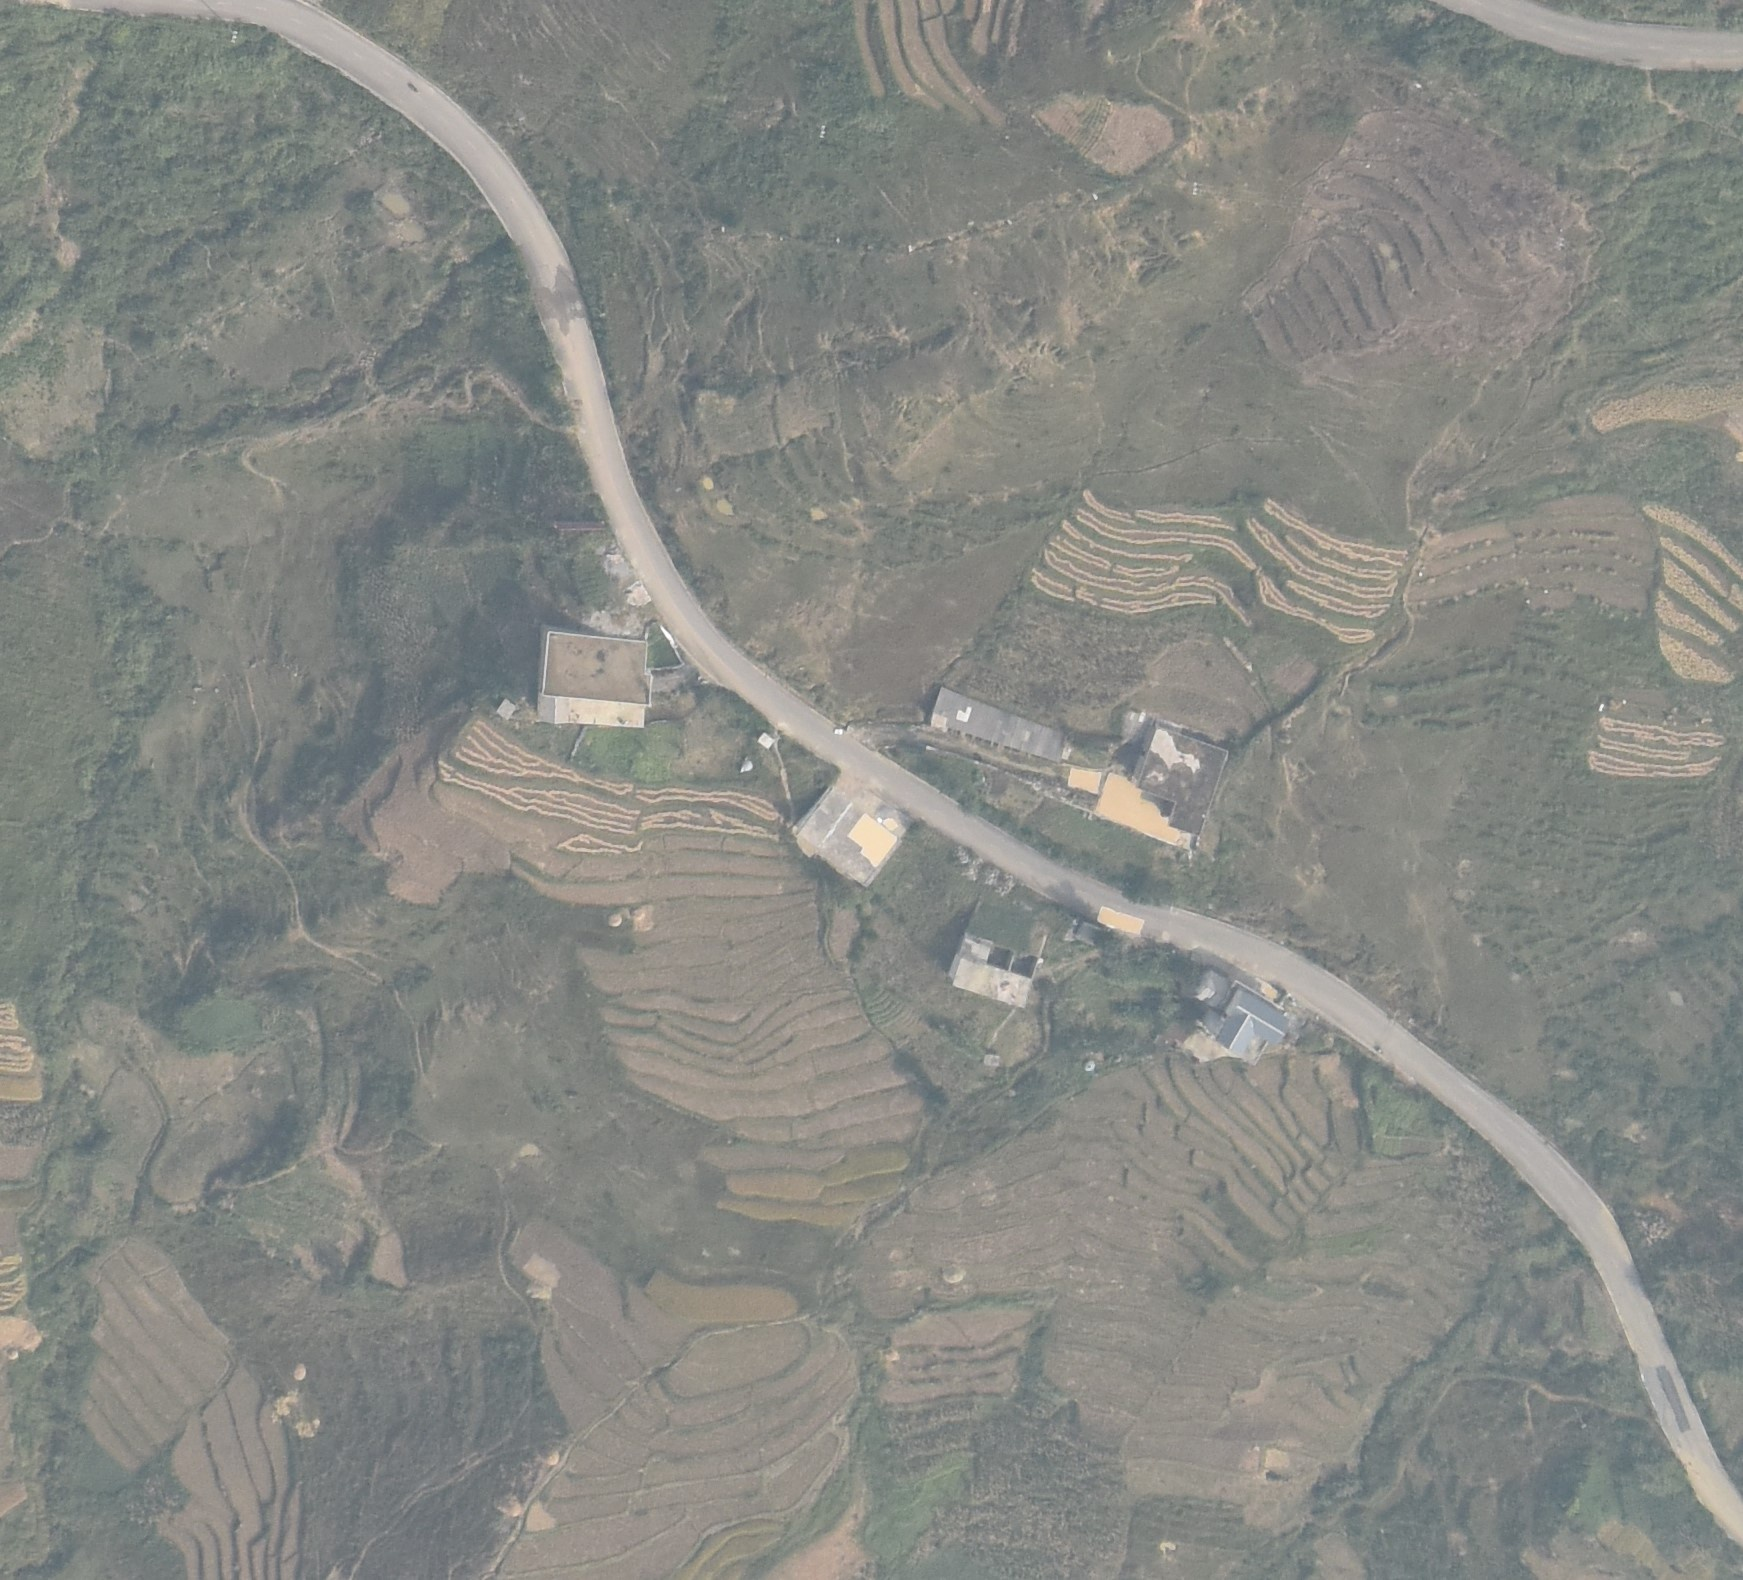building: (789, 780, 912, 892), (931, 686, 1067, 762), (1134, 724, 1228, 832), (538, 632, 653, 707), (948, 932, 1044, 1006), (1216, 979, 1286, 1062)
cable-tower: (226, 29, 241, 47), (1556, 237, 1567, 250), (818, 126, 827, 139), (1191, 183, 1199, 197)
